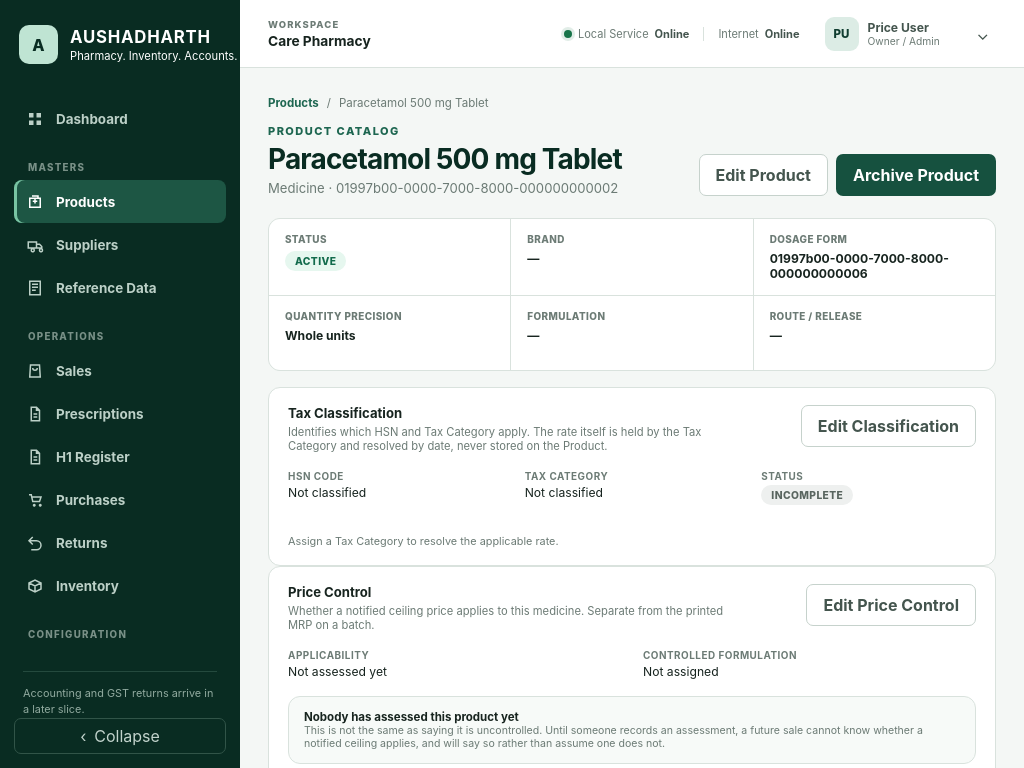
Test: Product price control UI › refuses to save a controlled product with no formulation, before sending anything
Step 1. Click the button "Edit Price Control" → (891, 605), box [806, 584, 976, 626]
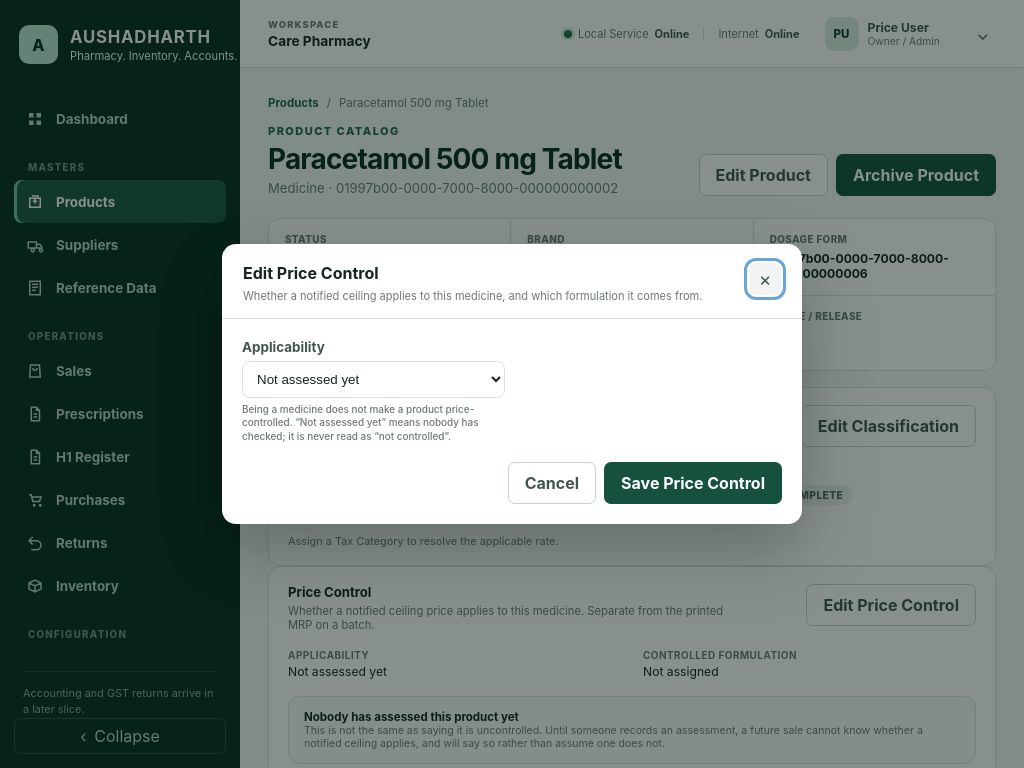
Step 2. Select "Price-controlled" in the dropdown labelled "Applicability" → (373, 379), box [242, 361, 504, 398]
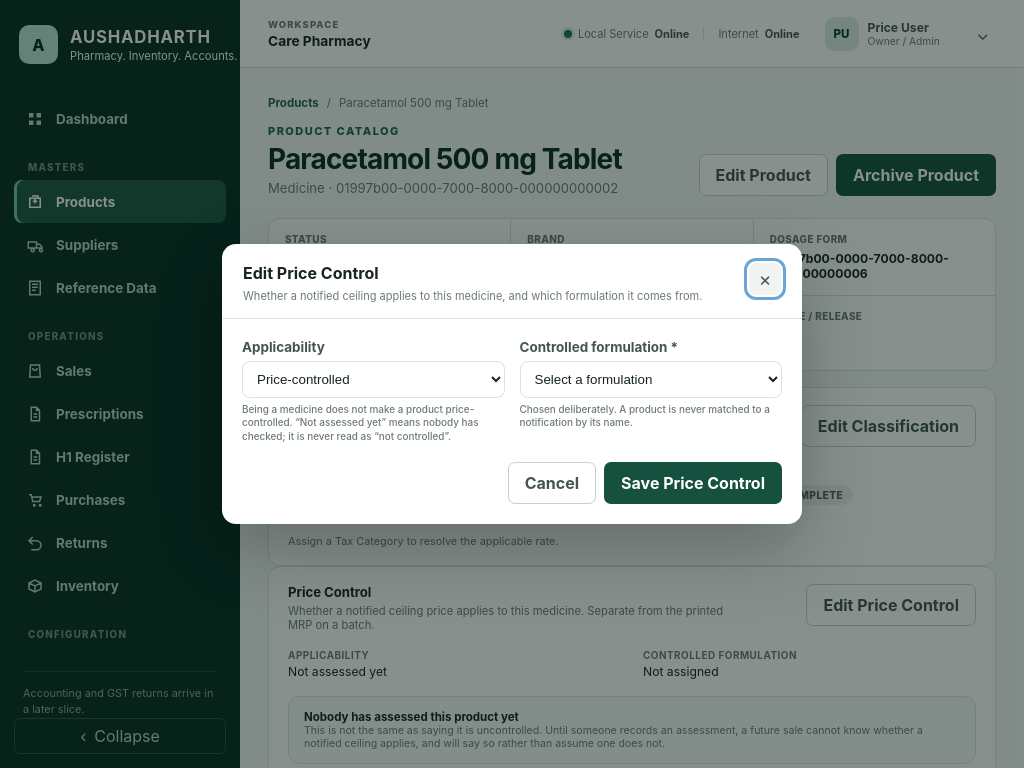
Step 3. Click the button "Save Price Control" → (693, 483), box [604, 462, 782, 504]
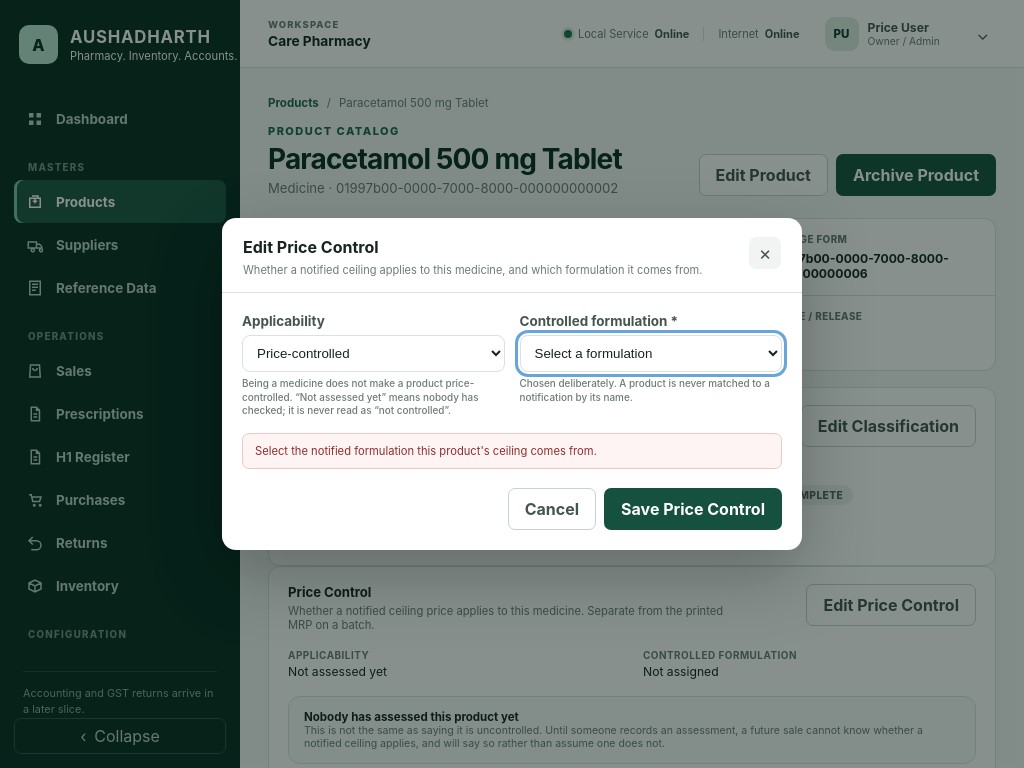
Result: the message shows "Select the notified formulation" at [255, 444, 597, 458]
